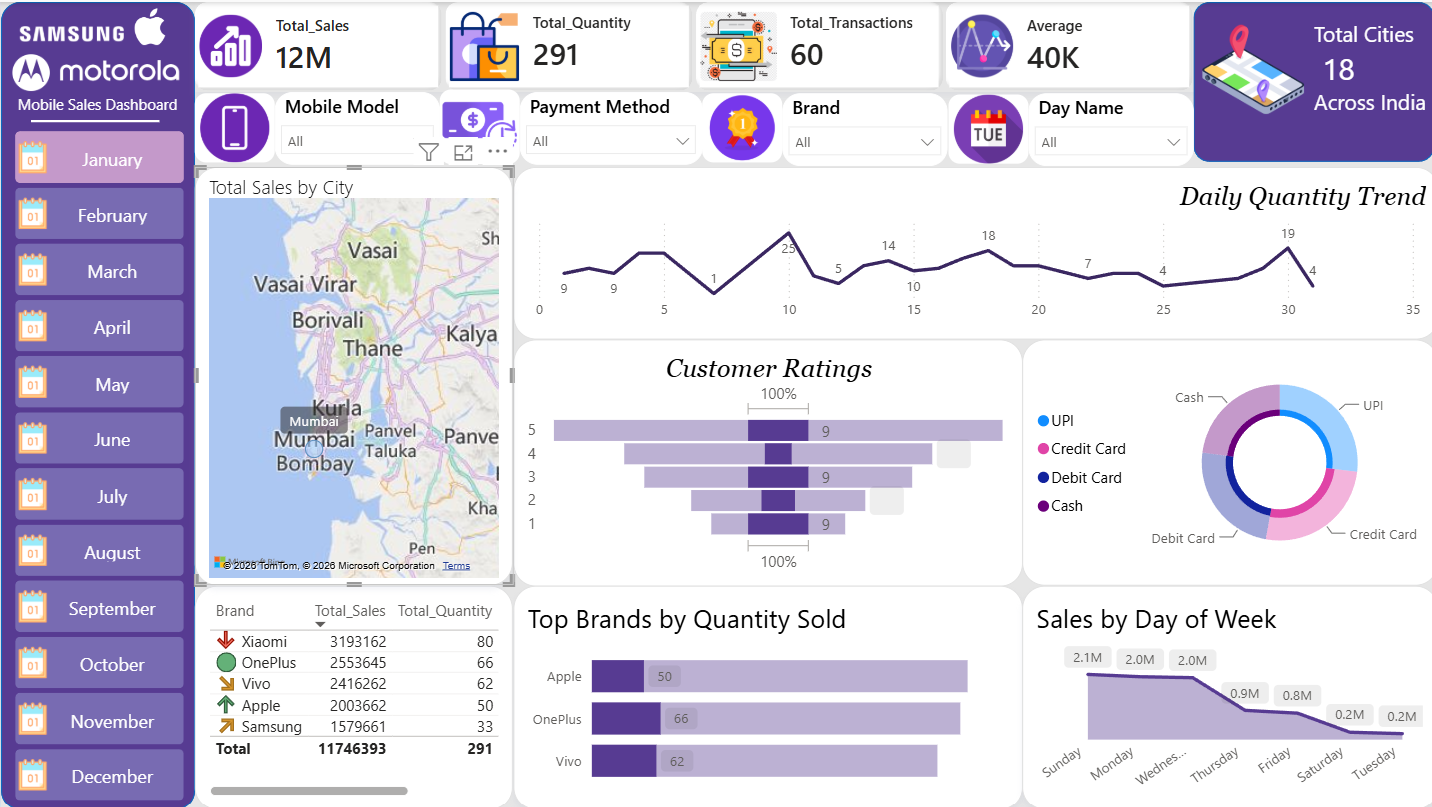

The dashboard page shown, as its layout file describes it:
{"tool":"powerbi","page":{"name":"Page 1","canvas":[1280,720],"ordinal":0},"visuals":[{"type":"shape","box":[0,0,172.9,720],"z":0},{"type":"image","box":[17.1,6.1,92.9,45.7],"z":1000},{"type":"image","box":[110.1,6.1,45.2,33],"z":2000},{"type":"image","box":[10,34.3,148.6,57.1],"z":3000},{"type":"textbox","box":[9.7,77.2,162.9,32.6],"z":4000},{"type":"advancedSlicerVisual","fields":{"Values":["SALES_DATA.Date.Variation.Date Hierarchy.Month"]},"box":[7.2,109.8,160.5,610.5],"z":5000},{"type":"cardVisual","fields":{"Data":["SALES_DATA.Total_Sales1","SALES_DATA.Total_Quantity","SALES_DATA.Total_Transactions","SALES_DATA.Average"]},"box":[172.5,0,892.8,79.6],"z":6000},{"type":"map","title":"Total Sales by City","fields":{"Category":["SALES_DATA.City"],"Size":["Sum(SALES_DATA.Total_sales)"]},"box":[172.5,147.2,283.5,372.8],"z":7000},{"type":"lineChart","title":"Daily Quantity Trend","fields":{"Category":["SALES_DATA.Date.Variation.Date Hierarchy.Year","SALES_DATA.Date.Variation.Date Hierarchy.Month","SALES_DATA.Date.Variation.Date Hierarchy.Day"],"Y":["SALES_DATA.Total_Quantity"]},"box":[456,147.2,824,153.2],"z":8000},{"type":"funnel","title":"Customer Ratings","fields":{"Category":["SALES_DATA.Customer Ratings"],"Y":["CountNonNull(SALES_DATA.Customer Ratings)"]},"box":[456.2,300.4,453.8,220],"z":9000},{"type":"donutChart","fields":{"Category":["SALES_DATA.Payment Method"],"Y":["SALES_DATA.Total_Transactions"]},"box":[909.7,300.4,370.4,219.6],"z":10000},{"type":"clusteredBarChart","title":"Top Brands by Quantity Sold","fields":{"Category":["SALES_DATA.Brand"],"Y":["SALES_DATA.Total_Quantity"]},"box":[456,520,453.8,200],"z":11000},{"type":"areaChart","title":"Sales by Day of Week","fields":{"Category":["SALES_DATA.Day Name"],"Y":["SALES_DATA.Total_Sales"]},"box":[909.7,520,370.4,200.3],"z":12000},{"type":"tableEx","fields":{"Values":["SALES_DATA.Brand","SALES_DATA.Total_Sales","SALES_DATA.Total_Quantity","SALES_DATA.Total_Transactions"]},"box":[172.5,520,283.5,200.3],"z":13000},{"type":"shape","box":[26.5,94.1,114.6,22.9],"z":14000},{"type":"slicer","fields":{"Values":["SALES_DATA.Mobile Model"]},"box":[243.7,79.6,147.2,65.1],"z":15000},{"type":"image","box":[172.5,80.8,71.2,61.5],"z":16000},{"type":"slicer","fields":{"Values":["SALES_DATA.Payment Method"]},"box":[462.1,79.6,162.9,65.1],"z":17000},{"type":"image","box":[390.9,78.4,71.2,66.4],"z":18000},{"type":"shape","box":[1061.7,0,214.7,142.4],"z":18500},{"type":"image","box":[624.9,80.8,71.2,61.5],"z":19000},{"type":"image","box":[843.3,82,71.2,61.5],"z":20000},{"type":"slicer","fields":{"Values":["SALES_DATA.Brand"]},"box":[696.1,80.8,147.2,65.1],"z":21000},{"type":"slicer","fields":{"Values":["SALES_DATA.Day Name"]},"box":[914.5,80.8,147.2,65.1],"z":23000},{"type":"image","box":[1030.3,9.7,168.9,100.1],"z":24500},{"type":"textbox","box":[1164.2,10.9,112.2,136.3],"z":26001}]}

Visuals, with their boxes in screenshot pixels (x1, y1, x2, y2), scaled from the page's 1280x720 canvas onto the 1432x807 screenshot:
shape: l=0, t=0, r=193, b=806
image: l=19, t=7, r=123, b=58
image: l=123, t=7, r=174, b=44
image: l=11, t=38, r=177, b=102
textbox: l=11, t=87, r=193, b=123
advancedSlicerVisual - SALES_DATA.Date.Variation.Date Hierarchy.Month: l=8, t=123, r=188, b=806
cardVisual - SALES_DATA.Total_Sales1 x SALES_DATA.Total_Quantity: l=193, t=0, r=1192, b=89
"Total Sales by City" map: l=193, t=165, r=510, b=583
"Daily Quantity Trend" lineChart: l=510, t=165, r=1431, b=337
"Customer Ratings" funnel: l=510, t=337, r=1018, b=583
donutChart - SALES_DATA.Payment Method x SALES_DATA.Total_Transactions: l=1018, t=337, r=1431, b=583
"Top Brands by Quantity Sold" clusteredBarChart: l=510, t=583, r=1018, b=806
"Sales by Day of Week" areaChart: l=1018, t=583, r=1431, b=806
tableEx - SALES_DATA.Brand x SALES_DATA.Total_Sales: l=193, t=583, r=510, b=806
shape: l=30, t=105, r=158, b=131
slicer - SALES_DATA.Mobile Model: l=273, t=89, r=437, b=162
image: l=193, t=91, r=273, b=159
slicer - SALES_DATA.Payment Method: l=517, t=89, r=699, b=162
image: l=437, t=88, r=517, b=162
shape: l=1188, t=0, r=1428, b=160
image: l=699, t=91, r=779, b=159
image: l=943, t=92, r=1023, b=161
slicer - SALES_DATA.Brand: l=779, t=91, r=943, b=164
slicer - SALES_DATA.Day Name: l=1023, t=91, r=1188, b=164
image: l=1153, t=11, r=1342, b=123
textbox: l=1302, t=12, r=1428, b=165
